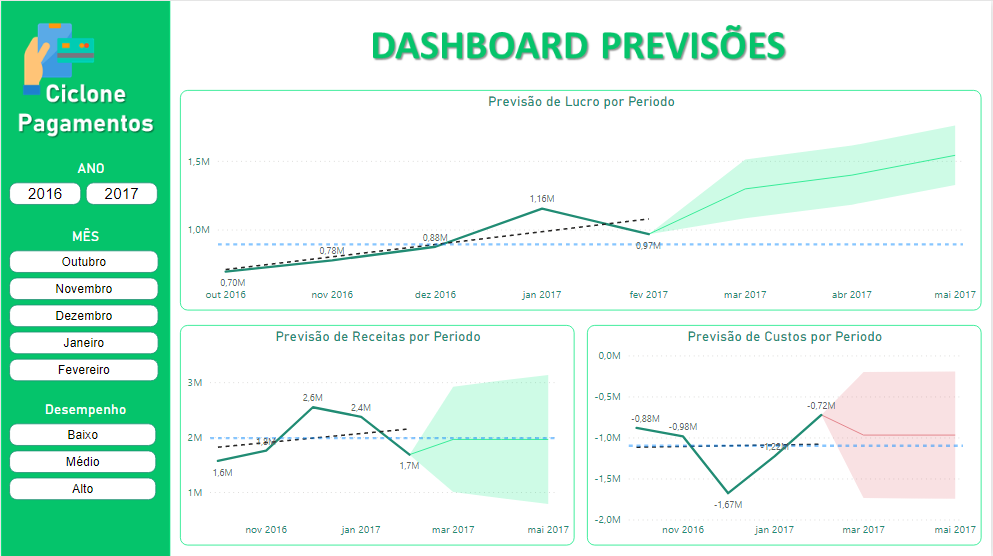

Layout of this report page (visuals, bound fields, positions):
{"tool":"powerbi","page":{"name":"Previsões","canvas":[1280,720],"ordinal":5},"visuals":[{"type":"ChicletSlicer1448559807354","title":"ANO","fields":{"Category":["Clientes.Data Apuração.Variation.Date Hierarchy.Year"]},"box":[2.8,205.1,227.1,88.1],"z":0},{"type":"ChicletSlicer1448559807354","title":"MÊS","fields":{"Category":["Clientes.Mês Apuração"]},"box":[2.8,293.2,213.3,224.3],"z":1000},{"type":"ChicletSlicer1448559807354","title":"Desempenho","fields":{"Category":["Clientes.Cluster"]},"box":[2.8,517.5,213.3,150],"z":2000},{"type":"lineChart","title":"Previsão de Lucro por Periodo","fields":{"Category":["Clientes.Data Apuração"],"Y":["Sum(Clientes.Lucro )"]},"box":[231.3,115,1036.2,285.4],"z":3000},{"type":"lineChart","title":"Previsão de Receitas por Periodo","fields":{"Category":["Clientes.Data Apuração"],"Y":["Sum(Clientes.Total (Receita))"]},"box":[231.3,418.4,510,285.4],"z":4000},{"type":"lineChart","title":"Previsão de Custos por Periodo","fields":{"Category":["Clientes.Data Apuração"],"Y":["Sum(Clientes.Total (Custos))"]},"box":[757.7,418.4,509.8,285.4],"z":5000}]}

Visuals, with their boxes in screenshot pixels (x1, y1, x2, y2), scaled from the page's 1280x720 canvas onto the 993x556 screenshot:
"ANO" ChicletSlicer1448559807354: [x1=2, y1=158, x2=178, y2=226]
"MÊS" ChicletSlicer1448559807354: [x1=2, y1=226, x2=168, y2=400]
"Desempenho" ChicletSlicer1448559807354: [x1=2, y1=400, x2=168, y2=515]
"Previsão de Lucro por Periodo" lineChart: [x1=179, y1=89, x2=983, y2=309]
"Previsão de Receitas por Periodo" lineChart: [x1=179, y1=323, x2=575, y2=543]
"Previsão de Custos por Periodo" lineChart: [x1=588, y1=323, x2=983, y2=543]
